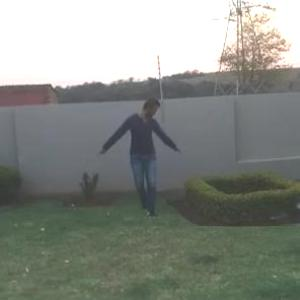land: (98, 96, 189, 224)
